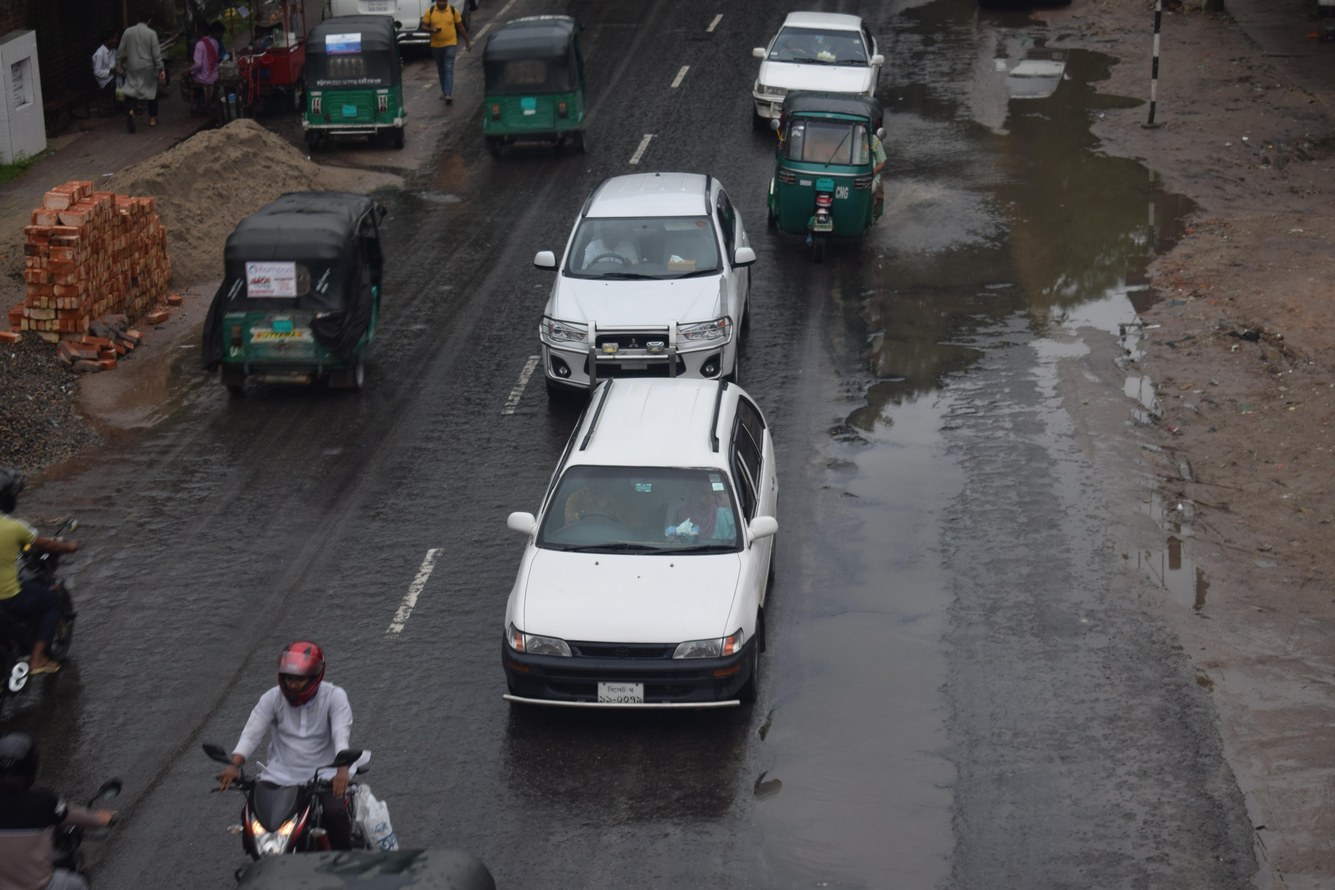Bike: (153, 609, 399, 890)
Car: (480, 323, 815, 775), (483, 140, 801, 416), (730, 0, 936, 129)
